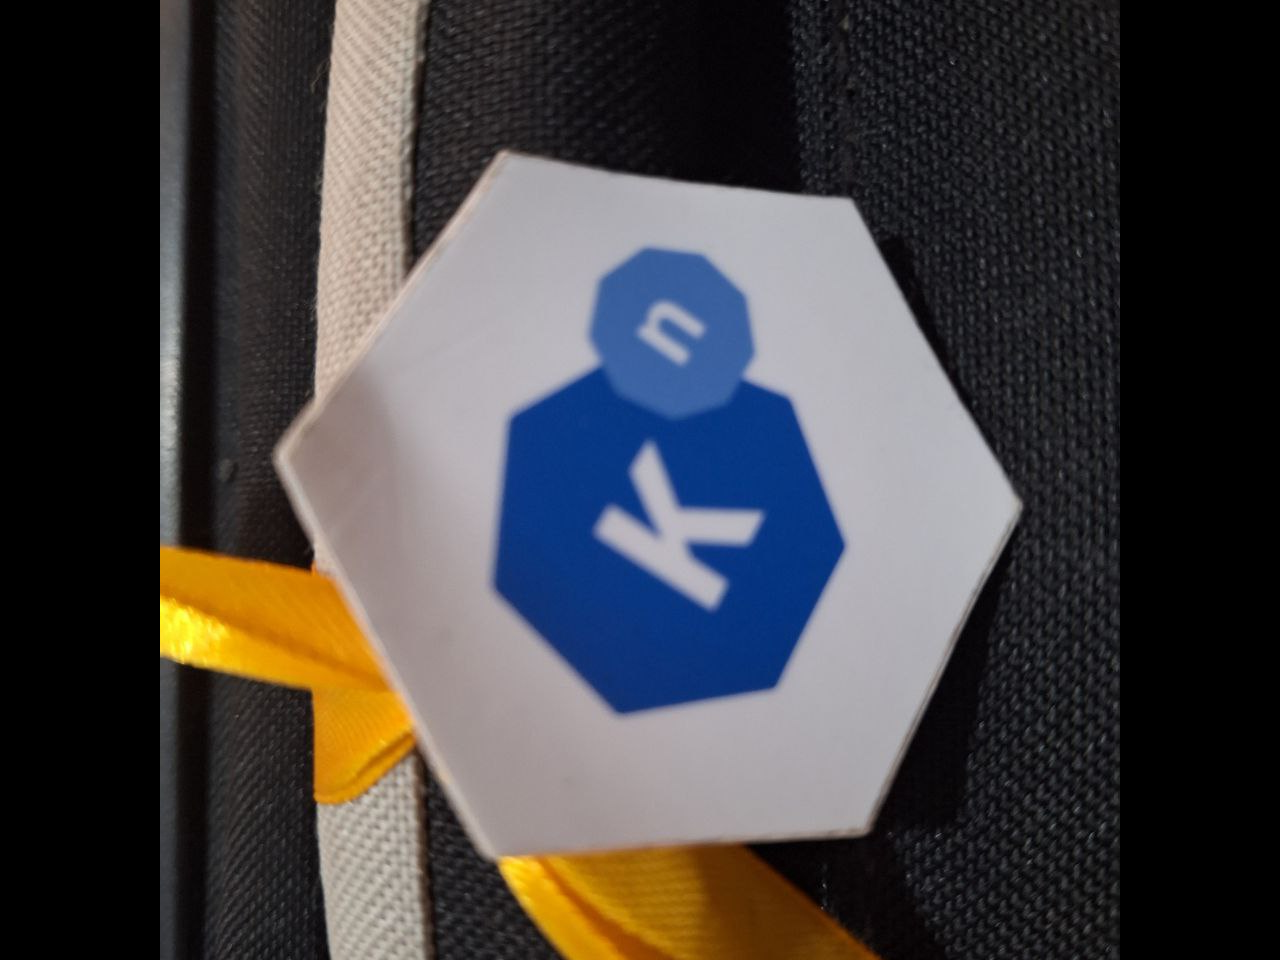knative: (483, 247, 850, 718)
